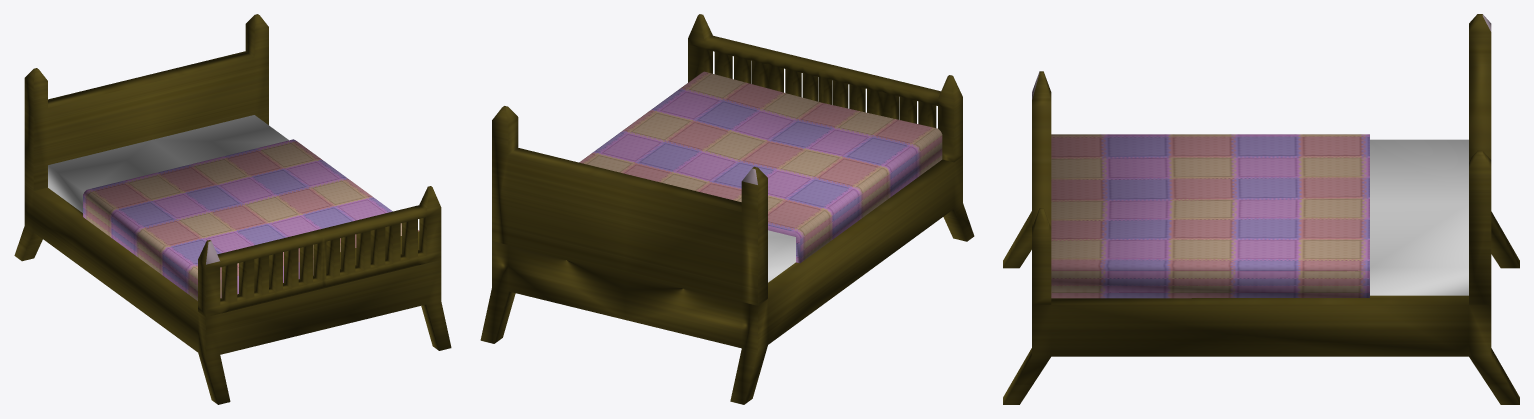
Rendered from queen-bed.obj.
3 views of the same model, side by side, from view 1: azimuth 30°, elevation 25°; view 2: azimuth 150°, elevation 25°; view 3: azimuth 270°, elevation 25° (orthographic). The views are drawn at different scales.
Parts seen in each view (by area): view 1: Cube; view 2: Cube; view 3: Cube.
Boxes of the visible parts, <box> form: Cube: <box>14,14,451,404</box>; Cube: <box>480,14,974,404</box>; Cube: <box>1003,14,1519,404</box>.
Size of the model in its own units: 6 by 4.79 by 9.
2 materials, 2 textured.
